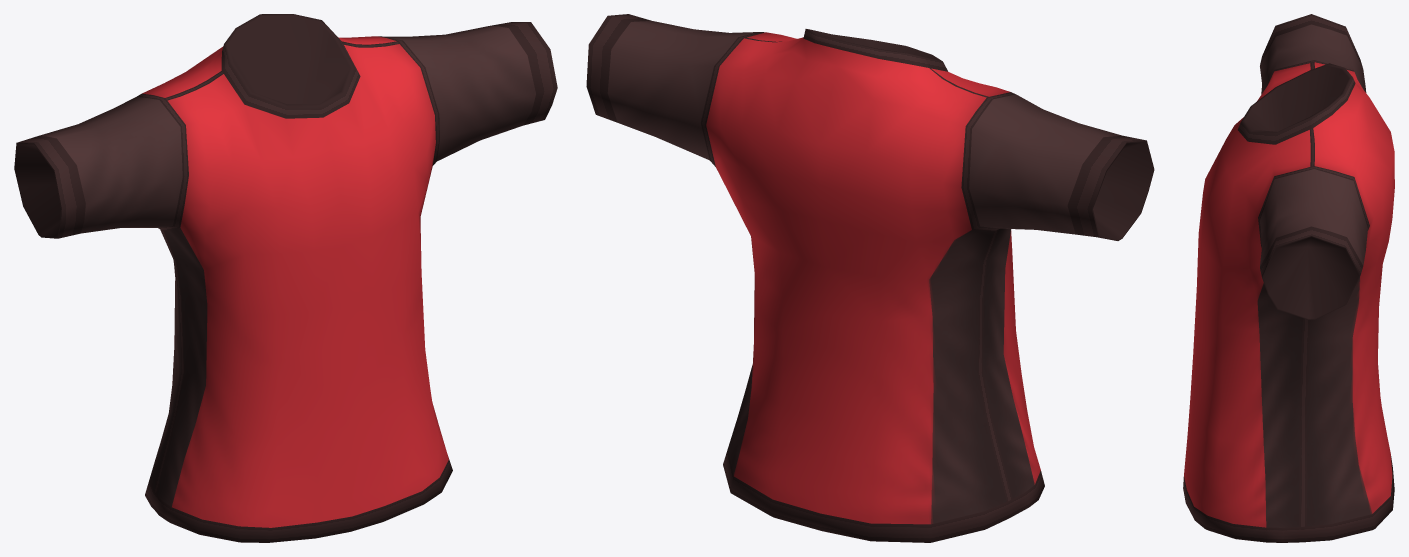
The model's file is ShirtRed.glb.
The picture shows the model from 3 angles, left to right: view 1: azimuth 30°, elevation 25°; view 2: azimuth 150°, elevation 25°; view 3: azimuth 270°, elevation 25°; orthographic projection. The views are drawn at different scales.
Visible parts, largest first — view 1: Male_Tee2.1; view 2: Male_Tee2.1; view 3: Male_Tee2.1.
Boxes of the visible parts, x1,y1,x2,y2 form: Male_Tee2.1: (14, 14, 557, 542); Male_Tee2.1: (586, 14, 1154, 542); Male_Tee2.1: (1183, 14, 1394, 542).
Size of the model in its own units: 0.5244 by 0.4567 by 0.2114.
1 material, 1 textured.
